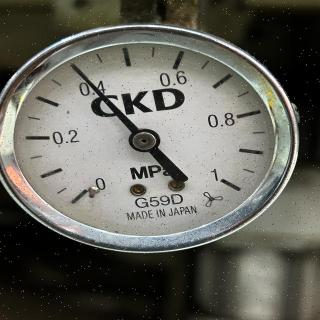gauge: (0, 15, 312, 259), (68, 175, 104, 205), (210, 176, 247, 201), (129, 128, 159, 152), (68, 61, 80, 73)
